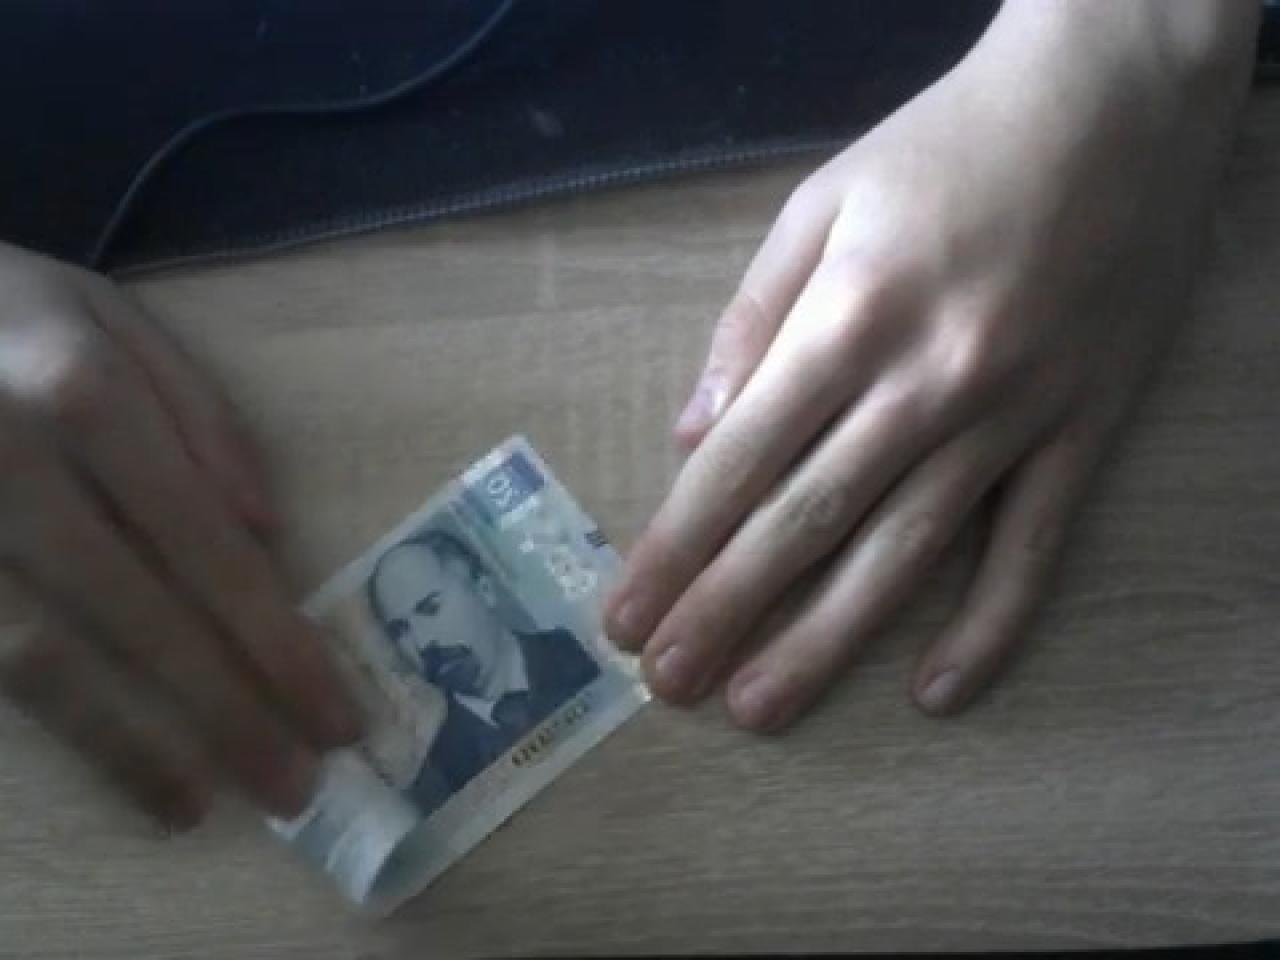20leva: (275, 435, 651, 923)
